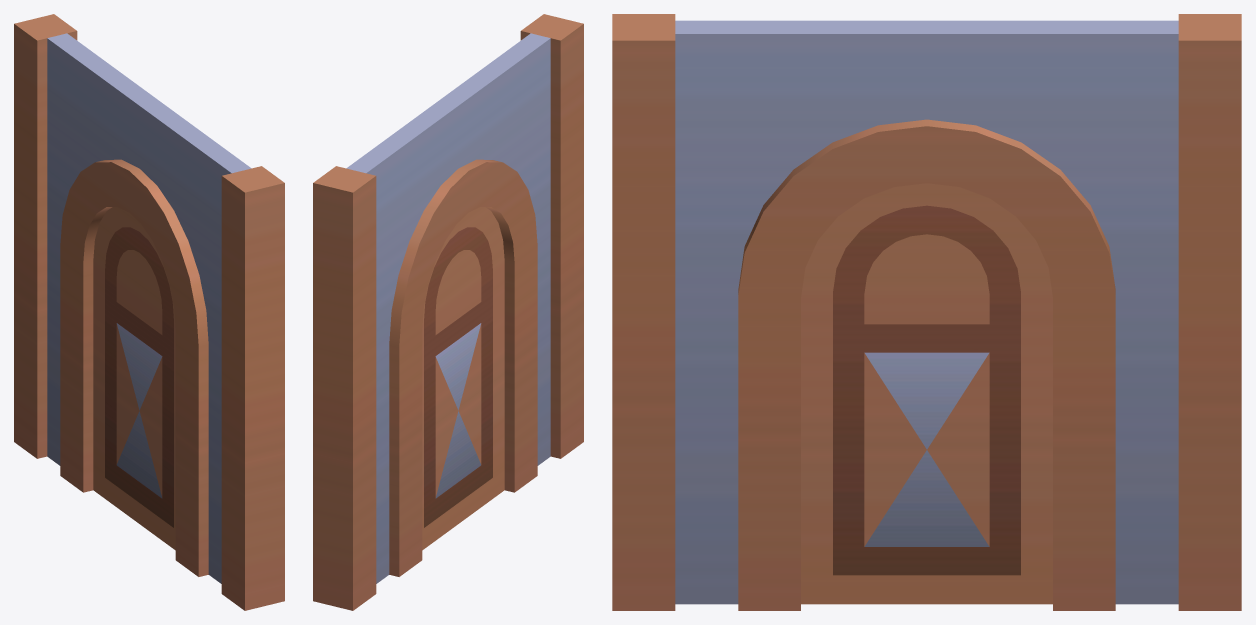
Rendered from wall-door.glb.
3 views of the same model, side by side, from view 1: azimuth 30°, elevation 25°; view 2: azimuth 150°, elevation 25°; view 3: azimuth 270°, elevation 25° (orthographic). The views are drawn at different scales.
Visible parts, largest first — view 1: wall-door, door; view 2: wall-door, door; view 3: wall-door, door.
Boxes of the visible parts, x1,y1,x2,y2 form: wall-door: (14, 14, 284, 610); door: (93, 207, 175, 550); wall-door: (313, 14, 583, 610); door: (422, 207, 504, 550); wall-door: (612, 14, 1241, 610); door: (801, 183, 1052, 604).
Size of the model in its own units: 0.1 by 1 by 1.
Materials: 1 (1 with a texture image).
